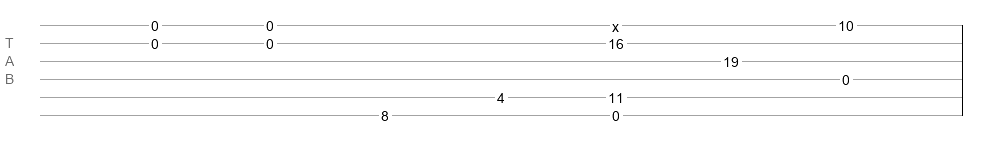0: (151, 36, 159, 46), (151, 18, 159, 28), (266, 36, 274, 46), (266, 18, 274, 28), (612, 108, 620, 118), (842, 72, 850, 82)
10: (838, 18, 854, 28)
11: (608, 90, 624, 100)
16: (608, 36, 624, 46)
19: (723, 54, 739, 64)
4: (497, 90, 505, 100)
8: (381, 108, 389, 118)
x: (612, 19, 619, 27)
